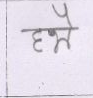o_matra: (62, 2, 75, 50)
